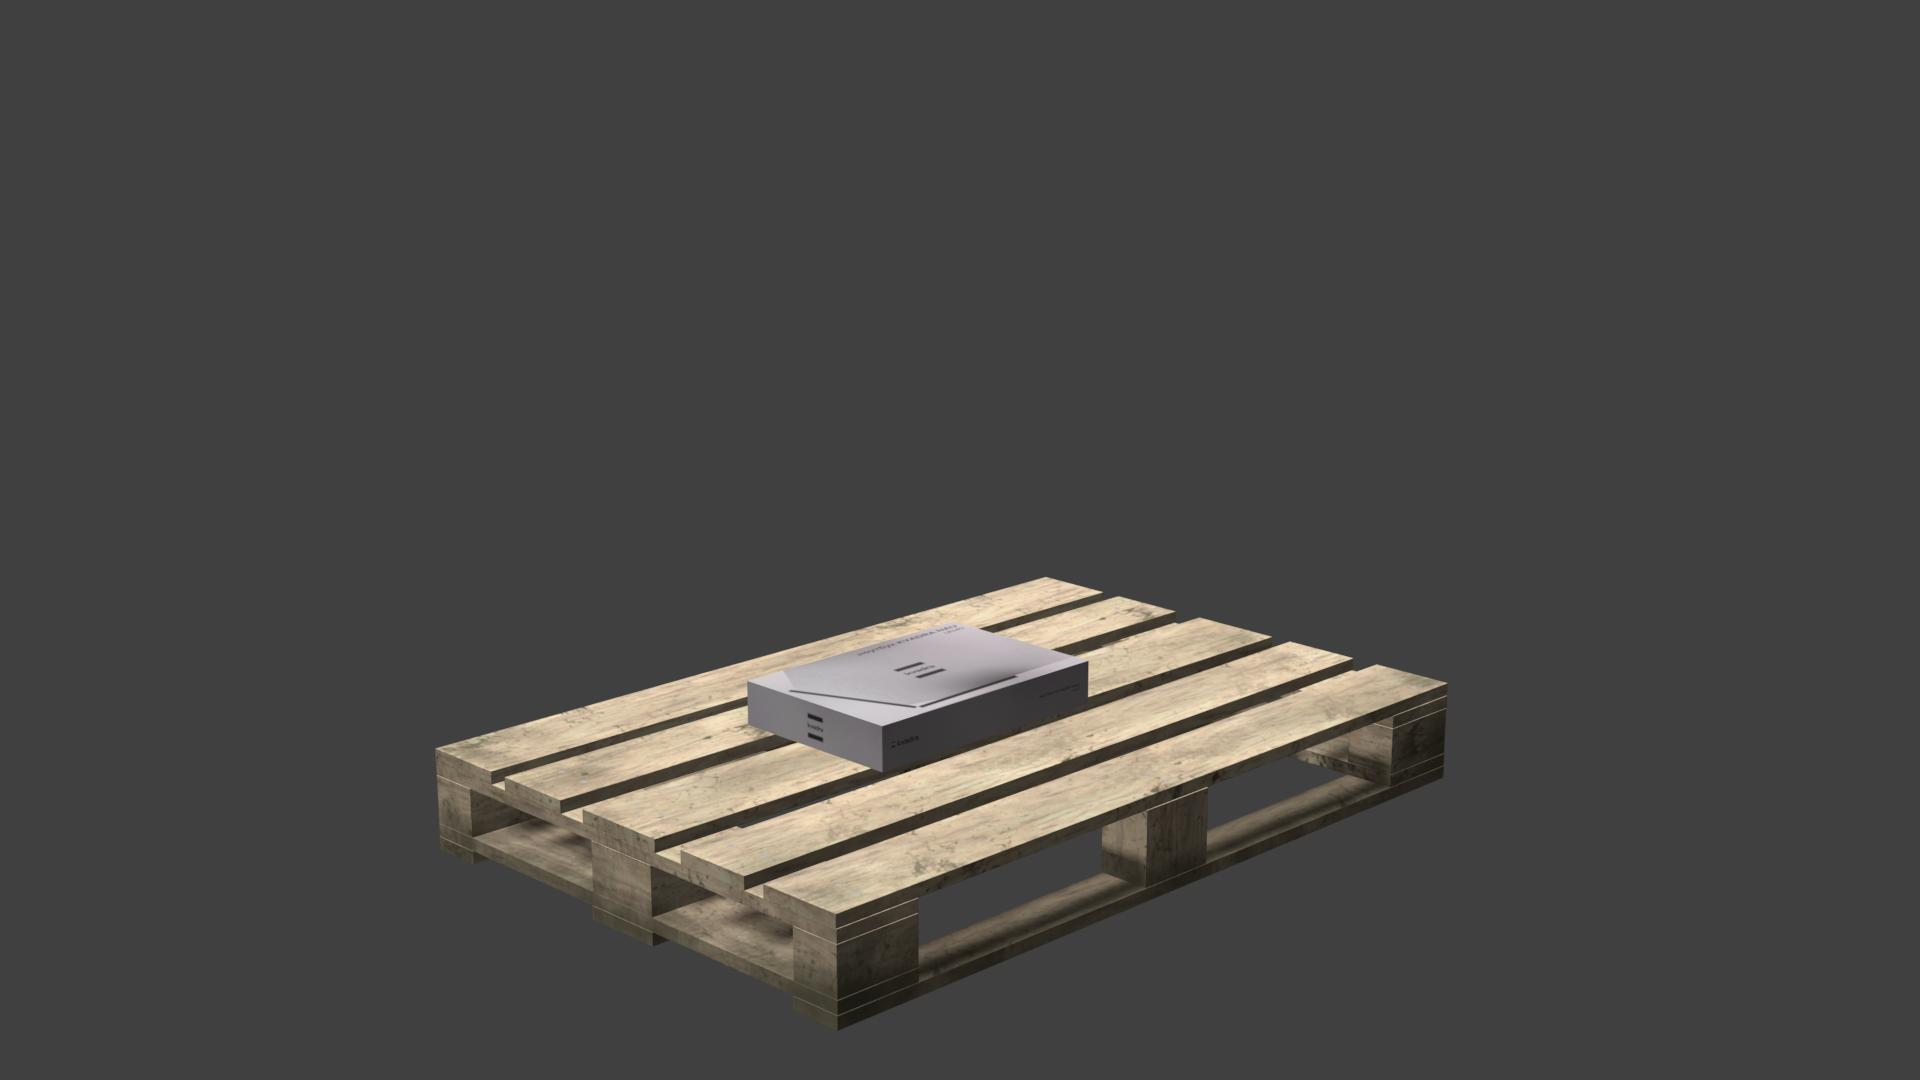laptop_left: (749, 665, 1089, 773)
laptop_top: (750, 622, 1087, 727)
palet: (436, 576, 1447, 1027)
